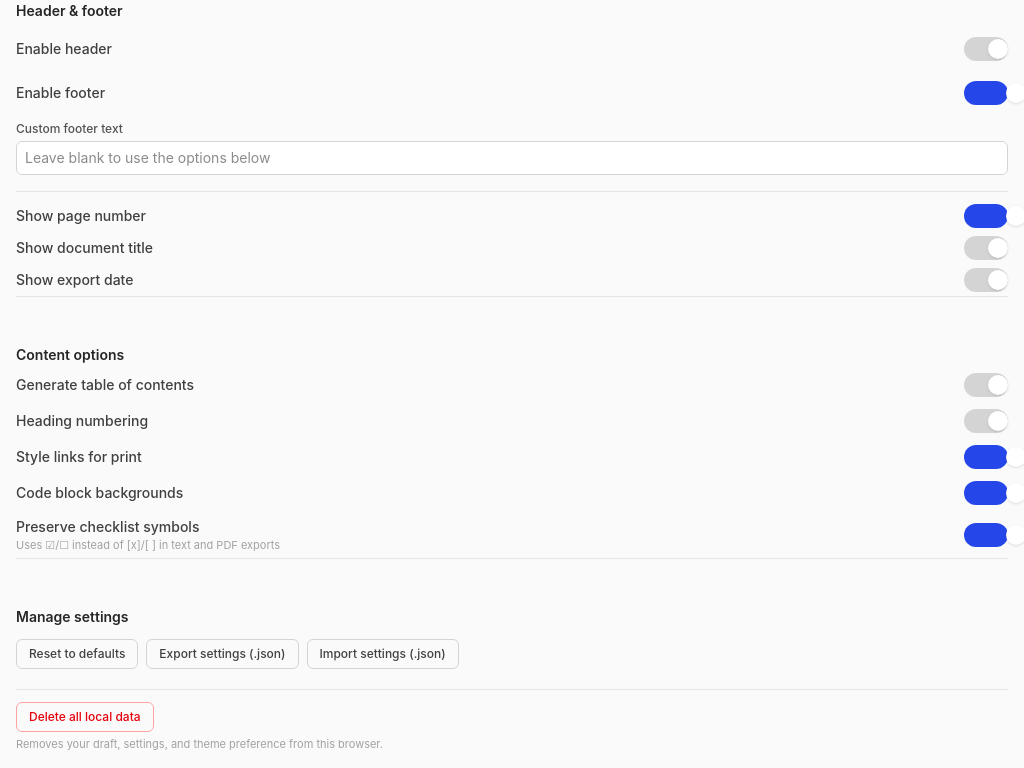
Test case: SettingsPanel › opens a confirmation dialog before resetting settings
(page scrolled)
Click the button "Reset to defaults": click(77, 654) [16,638,138,668]
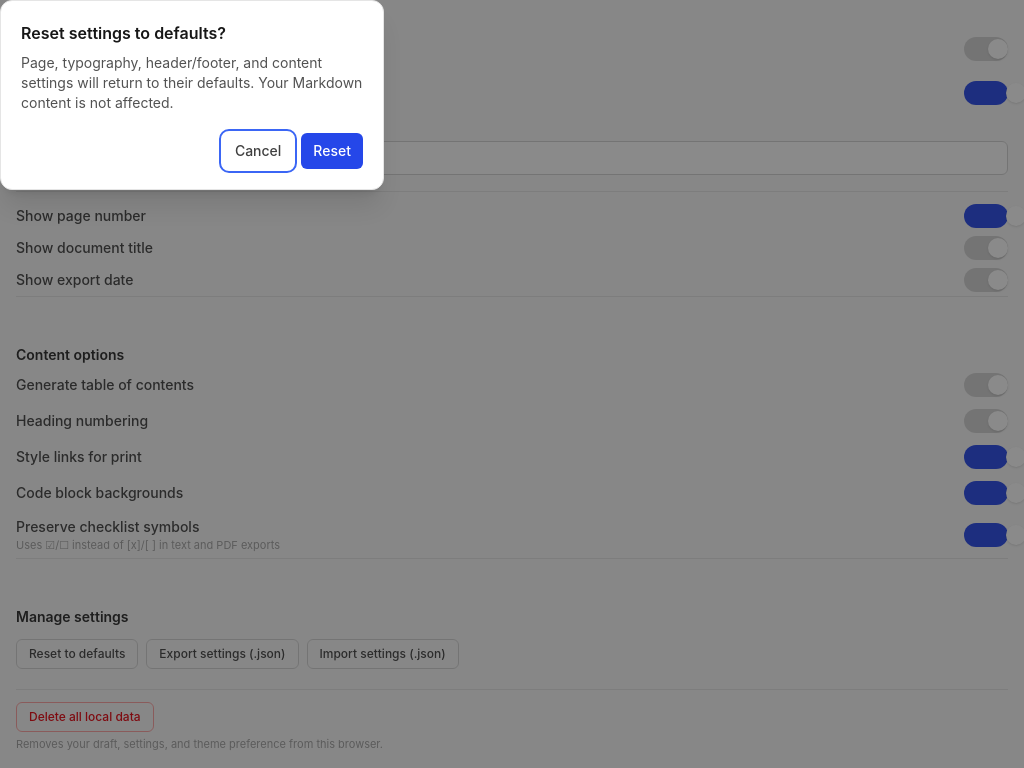
Expected: the heading "Reset settings to defaults?" is shown, [21,23,226,43]
